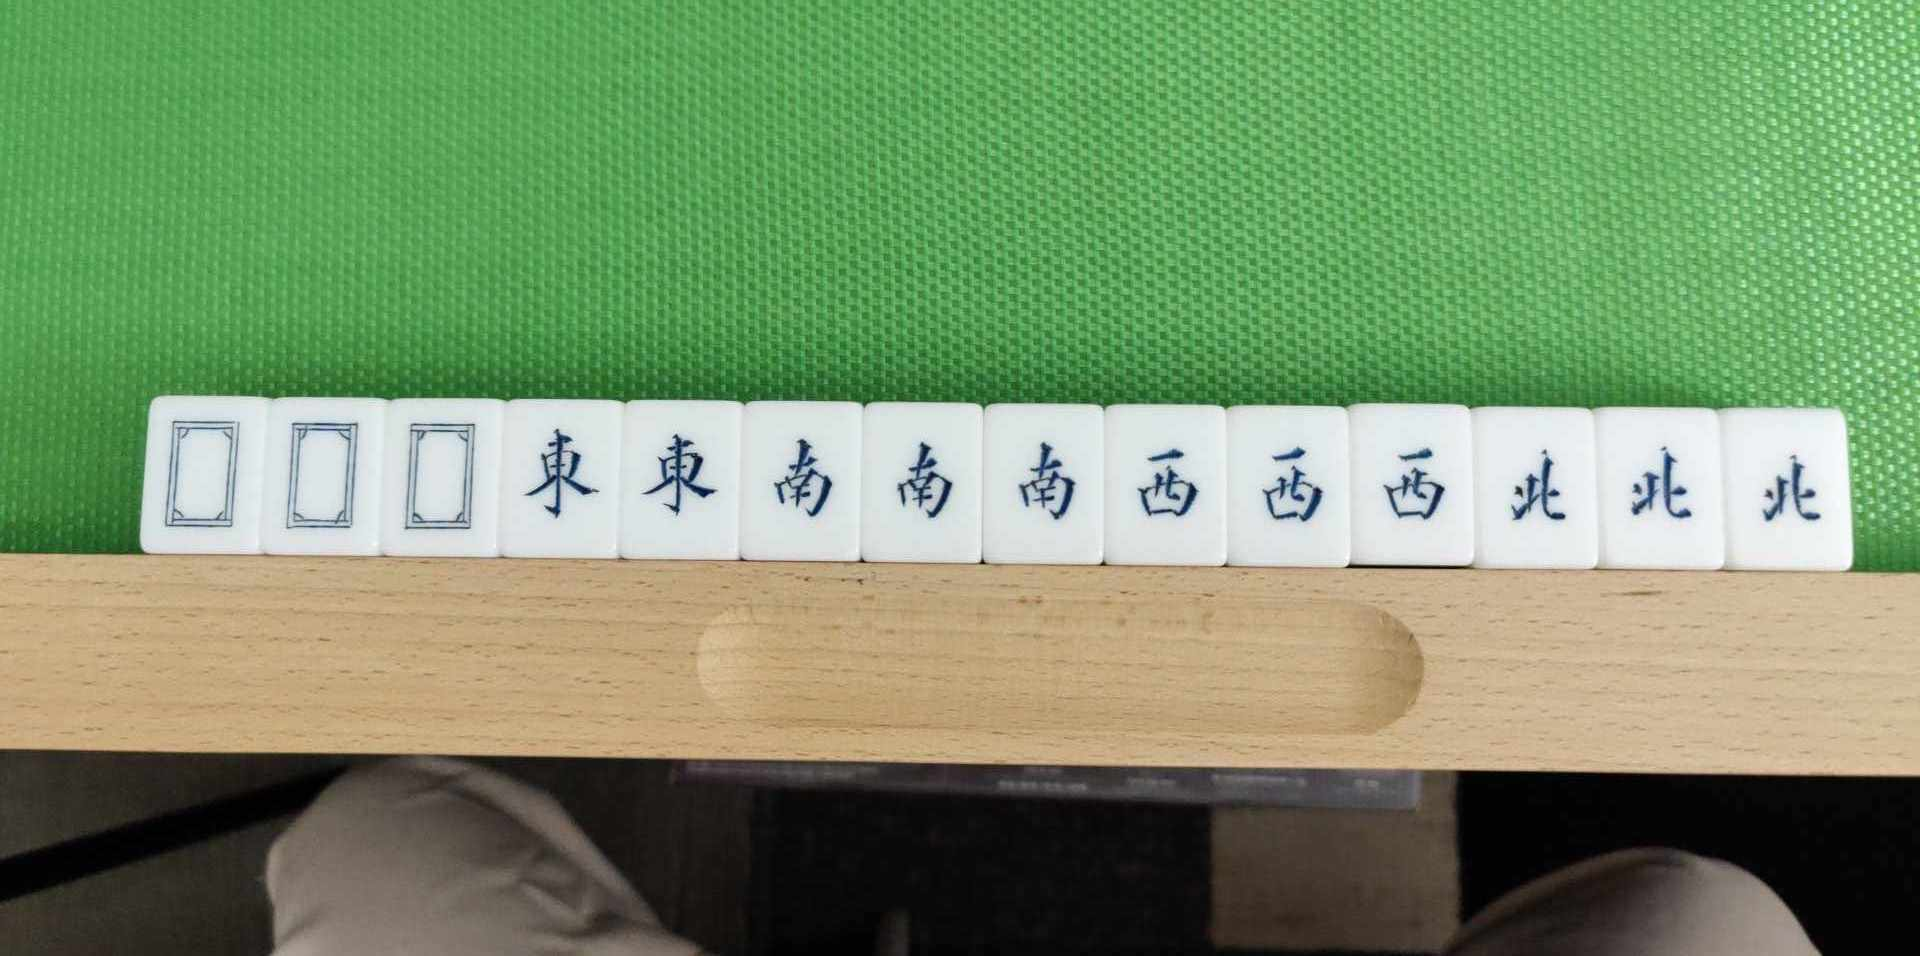honor-blue_dragon: (267, 406, 369, 553), (149, 405, 251, 546), (392, 406, 489, 552)
honor-east_wind: (628, 406, 733, 557), (509, 406, 613, 557)
honor-north_wind: (1729, 411, 1847, 566), (1480, 410, 1594, 566), (1607, 411, 1719, 566)
honor-south_wind: (986, 408, 1104, 559), (867, 406, 978, 558), (747, 406, 860, 556)
honor-west_wind: (1357, 406, 1469, 566), (1232, 410, 1349, 562), (1109, 409, 1223, 559)
